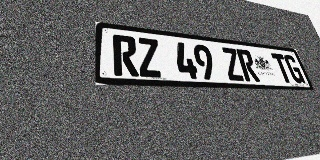4: (173, 41, 199, 79)
9: (192, 44, 217, 80)
G: (283, 54, 306, 84)
R: (113, 34, 139, 77), (236, 49, 260, 82)
T: (271, 53, 294, 83)
Z: (136, 37, 163, 78), (220, 47, 245, 81)
